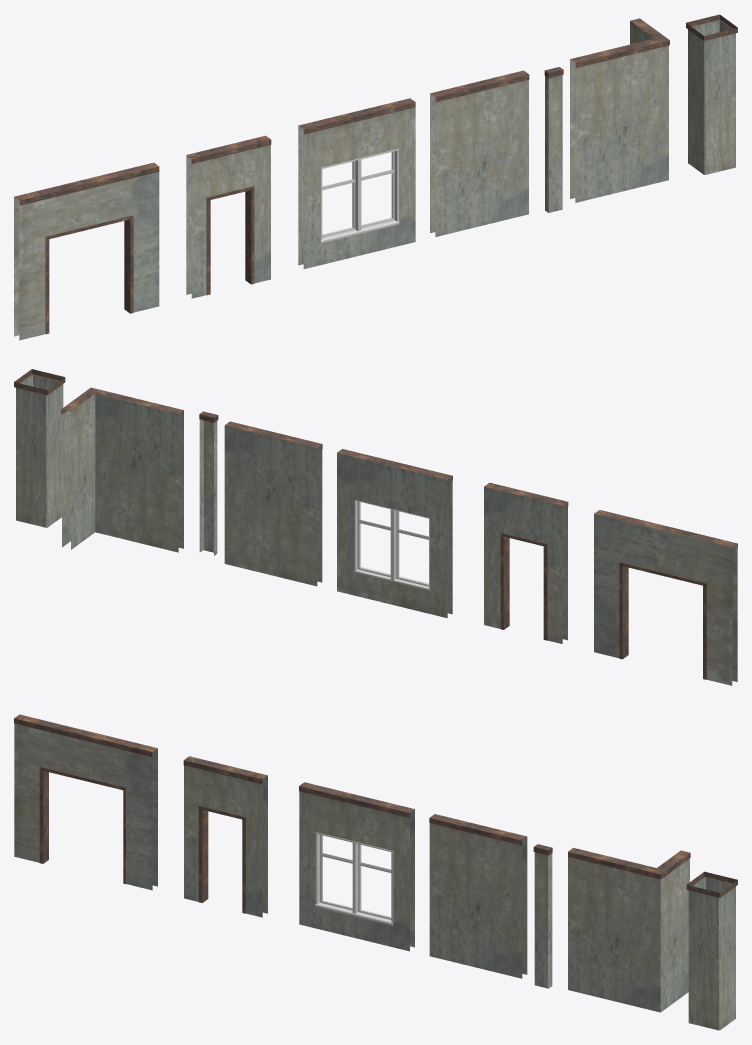
File: ModularWalls.fbx
3 views of the same model, one above another, from view 1: azimuth 30°, elevation 25°; view 2: azimuth 150°, elevation 25°; view 3: azimuth 330°, elevation 25° (orthographic).
Parts seen in each view (by area): view 1: polySurface18, polySurface16, polySurface543, polySurface15, polySurface544, pCube1, polySurface17, polySurface19; view 2: polySurface18, polySurface16, polySurface543, polySurface15, polySurface544, pCube1, polySurface17, polySurface19; view 3: polySurface18, polySurface16, polySurface543, polySurface15, polySurface544, pCube1, polySurface17, polySurface19.
Boxes of the visible parts, x1,y1,x2,y2 form: polySurface18: (570,18,669,202); polySurface16: (430,70,529,236); polySurface543: (14,162,159,340); polySurface15: (298,98,415,268); polySurface544: (186,135,271,298); pCube1: (686,14,737,174); polySurface17: (544,67,563,212); polySurface19: (320,148,399,243); polySurface18: (61,387,183,552); polySurface16: (224,421,322,586); polySurface543: (594,510,737,685); polySurface15: (337,449,452,618); polySurface544: (484,482,568,643); pCube1: (14,369,65,527); polySurface17: (199,411,218,555); polySurface19: (353,500,430,590); polySurface18: (568,848,690,1012); polySurface16: (429,814,527,978); polySurface543: (14,714,157,890); polySurface15: (299,782,414,951); polySurface544: (183,756,267,917); pCube1: (686,871,737,1030); polySurface17: (533,844,552,988); polySurface19: (315,832,393,925).
Bounding box in the file's own units: 460 × 85.92 × 37.95.
